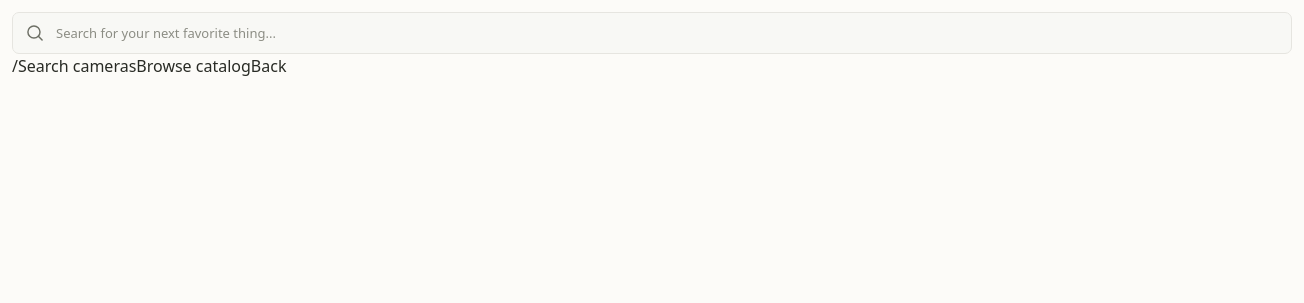
Test case: ProductSearchBar › opens a clicked suggestion and supports the link to all matching results
Step 1. Type "headphones" into the dropdown named "Search products" → (674, 33), box [56,13,1291,53]
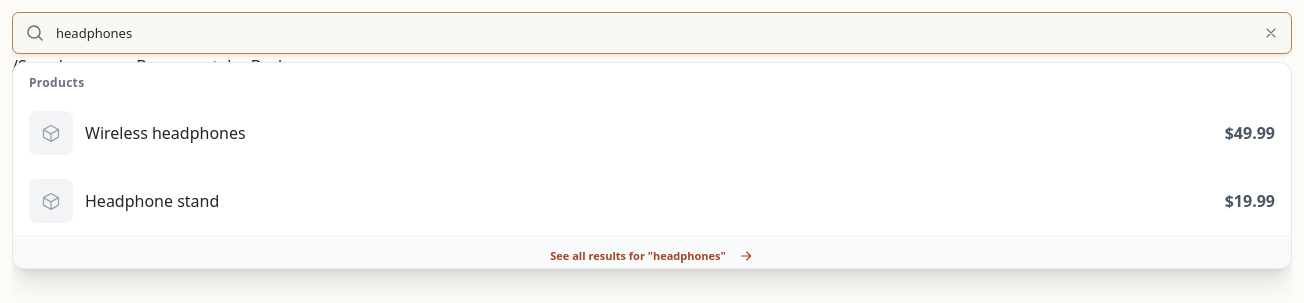
Step 2. Click the button "Wireless headphones $49.99" → (51, 133), box [13,99,1291,167]
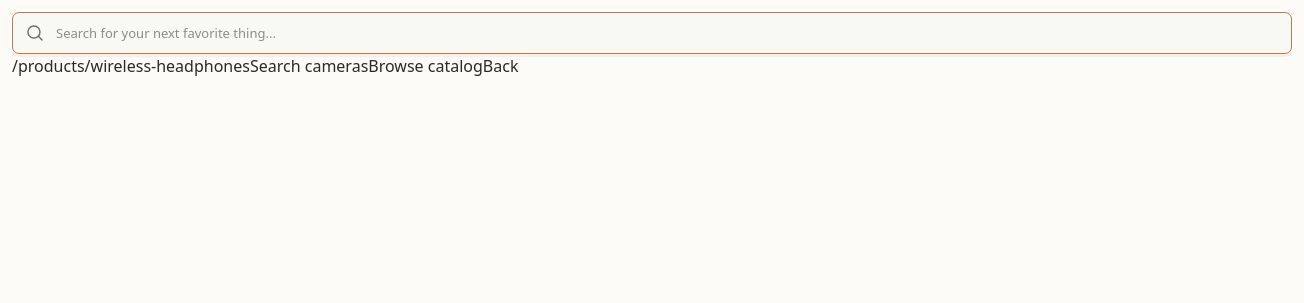
expect the text named "Current route" reads "/products/wireless-headphones": met, box [12,55,250,77]
Step 3. Type "stand" into the dropdown named "Search products" → (674, 33), box [56,13,1291,53]
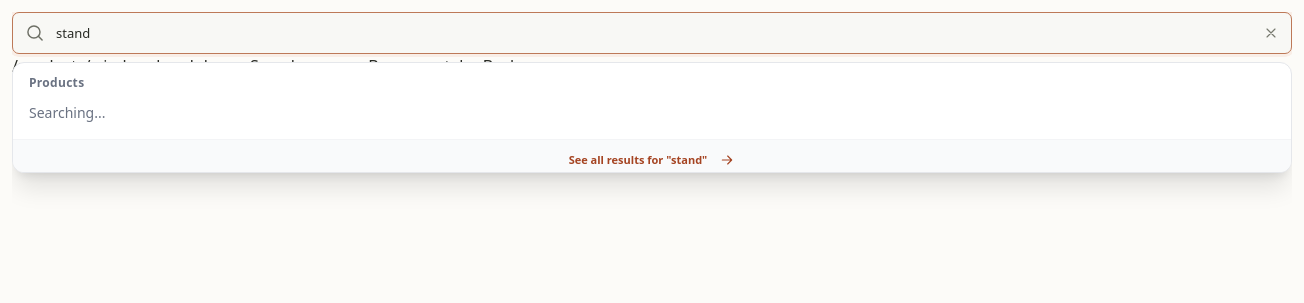
Step 4. Click the button "See all results for \"stand\"" → (652, 155), box [13,139,1291,172]
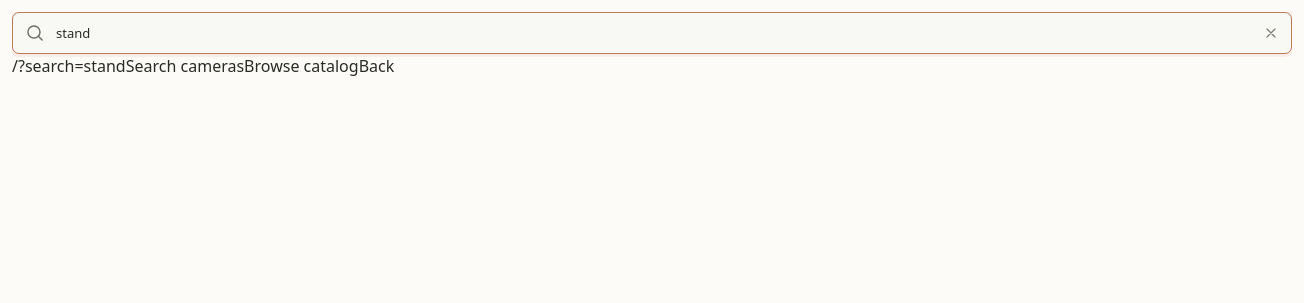
expect the text named "Current route" reads "/?search=stand": met, box [18,55,126,77]
